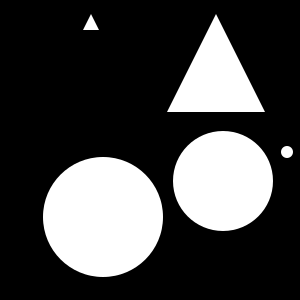rectangle: (43, 157, 163, 277), (173, 131, 273, 231), (281, 146, 293, 158)
triangle: (167, 14, 265, 112), (83, 14, 99, 30)
